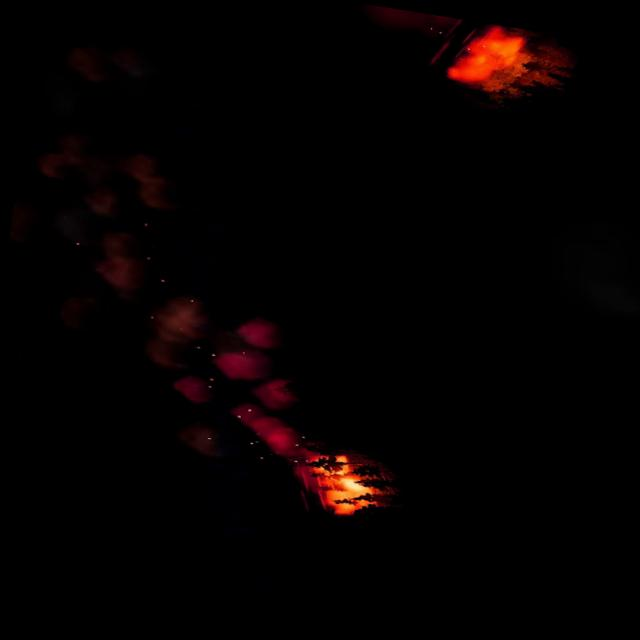fire: (441, 17, 526, 90), (304, 452, 376, 518)
smoke: (132, 299, 326, 476), (11, 132, 170, 294)
